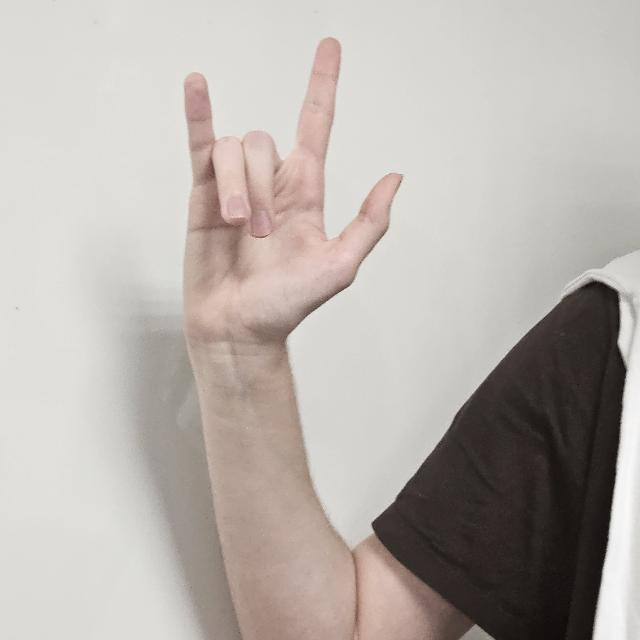Cima: (182, 36, 404, 354)
